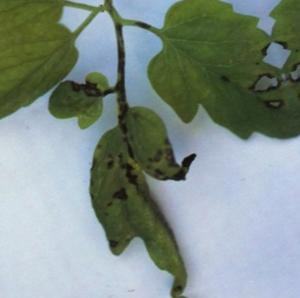Tomato leaf bacterial spot: (73, 89, 233, 298), (129, 0, 300, 181)
